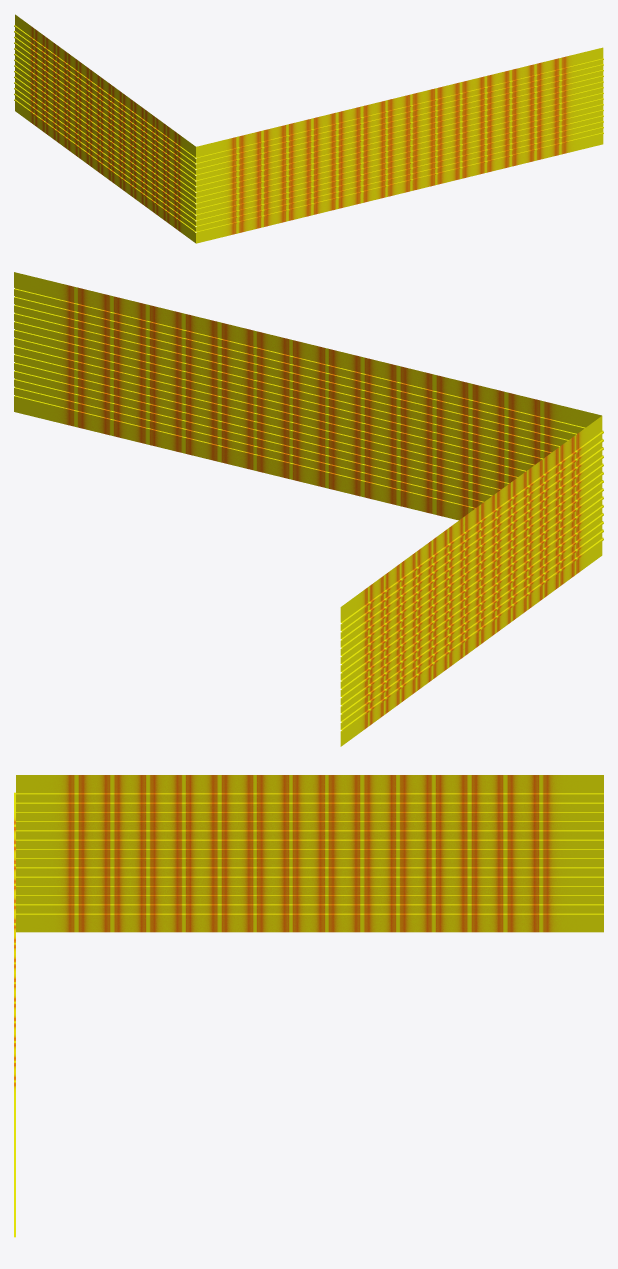
Rendered from RB_Walls_1_2.fbx.
3 views of the same model, one above another, from view 1: azimuth 30°, elevation 25°; view 2: azimuth 150°, elevation 25°; view 3: azimuth 270°, elevation 25° (orthographic). The views are drawn at different scales.
Parts seen in each view (by area): view 1: beam_0.5x2_Cube.366_beam_0.5x2_Cube.003; view 2: beam_0.5x2_Cube.366_beam_0.5x2_Cube.003; view 3: beam_0.5x2_Cube.366_beam_0.5x2_Cube.003.
Part boxes in pixels (<box>): beam_0.5x2_Cube.366_beam_0.5x2_Cube.003: <box>14,14,603,243</box>; beam_0.5x2_Cube.366_beam_0.5x2_Cube.003: <box>14,272,603,746</box>; beam_0.5x2_Cube.366_beam_0.5x2_Cube.003: <box>14,775,603,1237</box>.
Bounding box in the file's own units: 1103 × 250 × 850.
